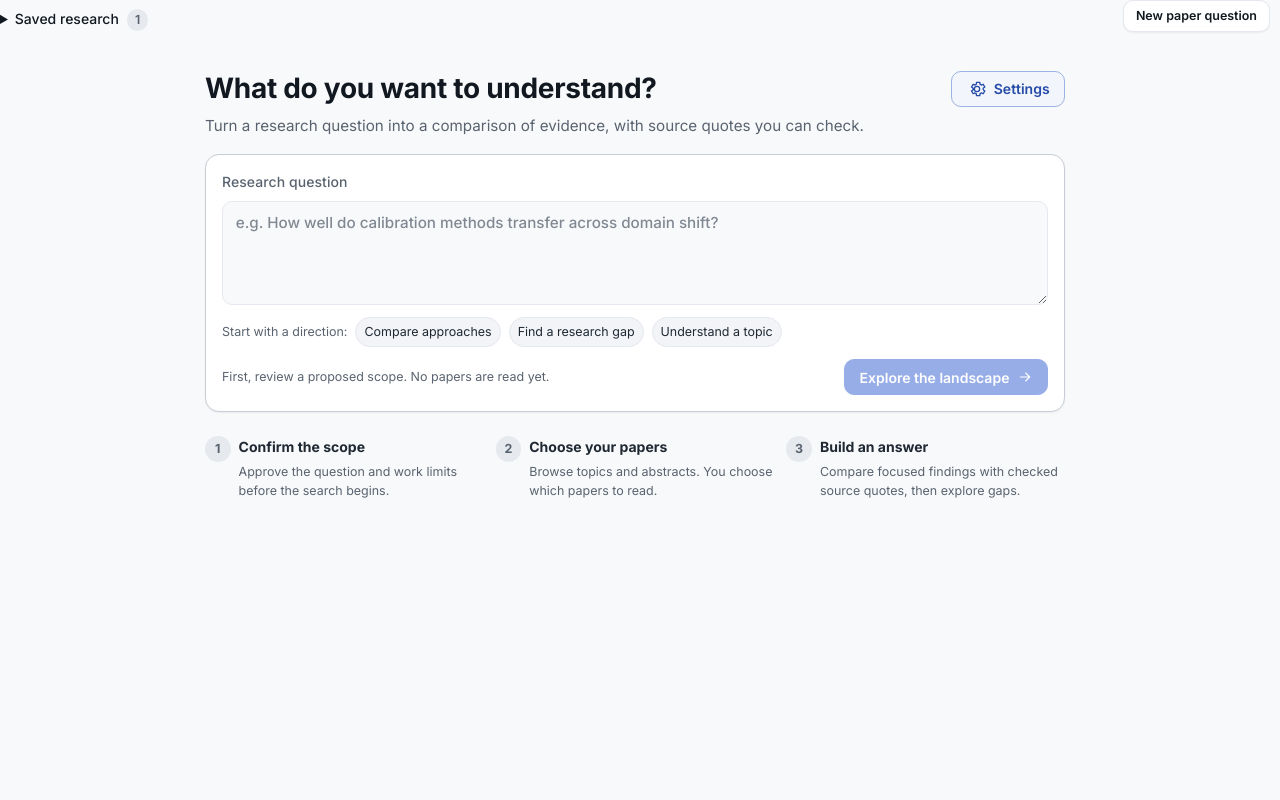
Test: closes a model picker with Escape before dismissing the settings drawer
Click the button with aria-label "Research settings": coordinates (1008, 89) [951,71,1065,107]
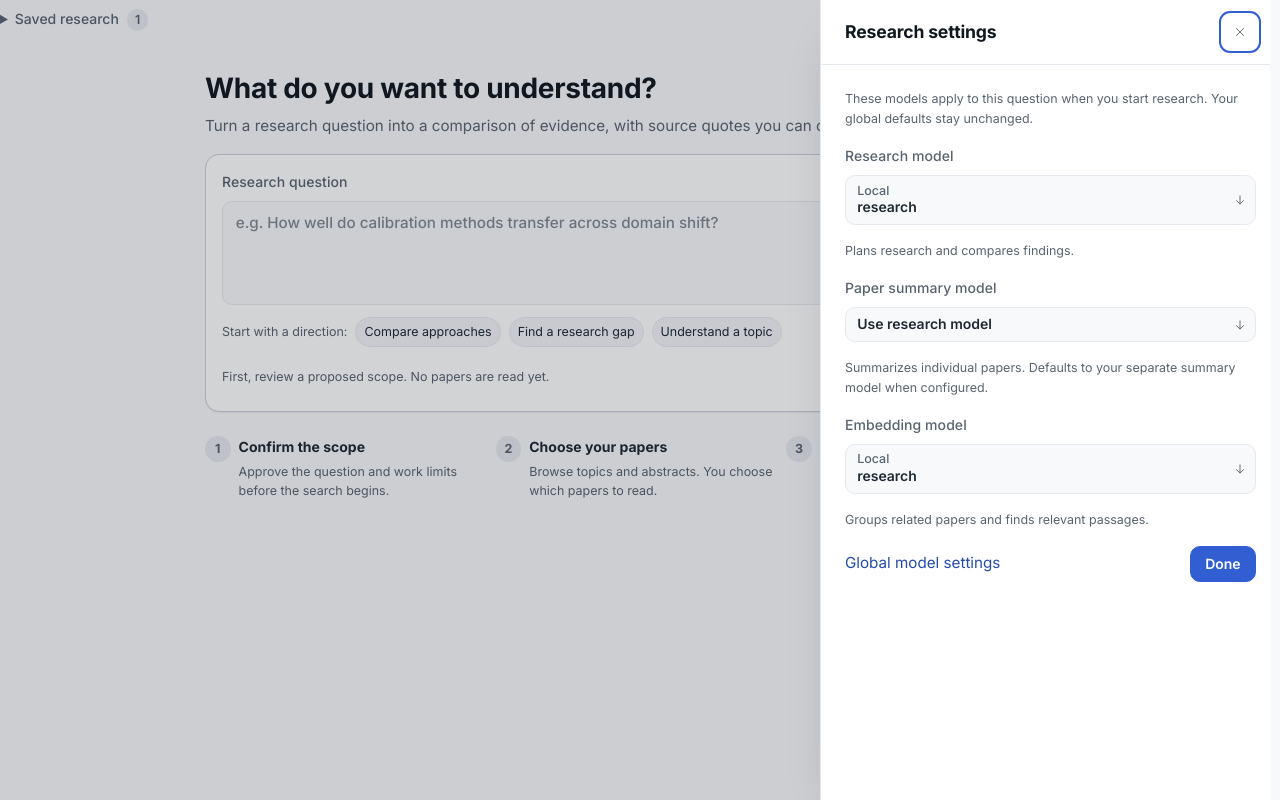
Click the button with aria-label "Research model": coordinates (873, 190) [845,175,1256,225]
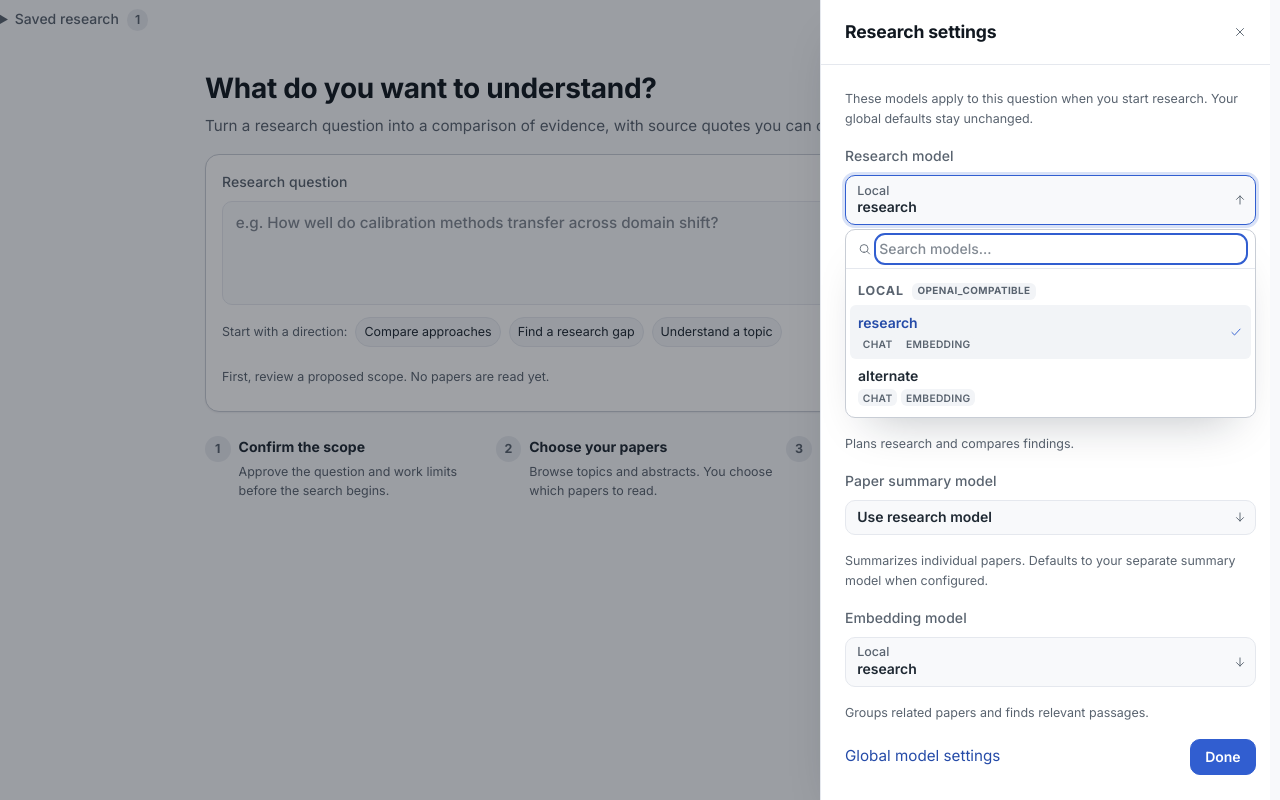
Result: the list is shown at [846,269,1255,417]
Press Escape in the dropdown with placeholder "Search models…", box [879,238,1243,260]
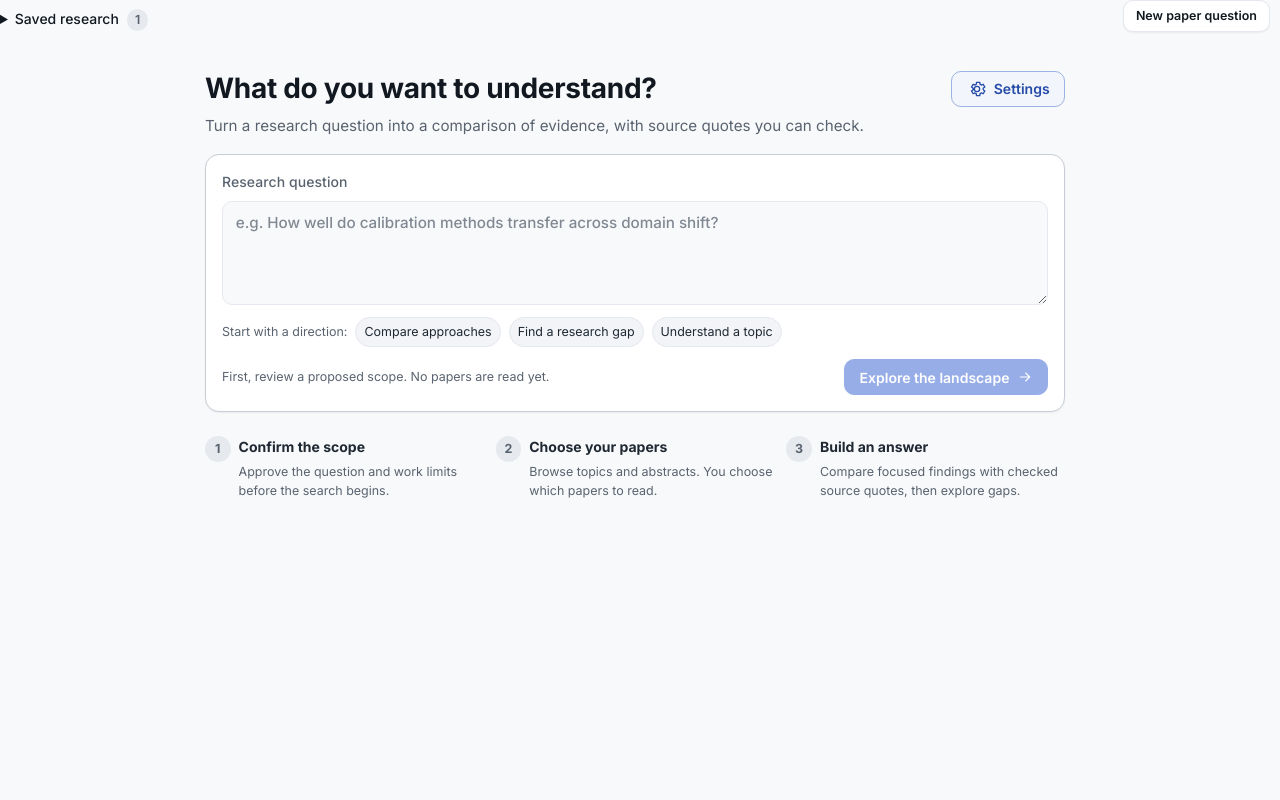
Result: the button "Local research" is gone
